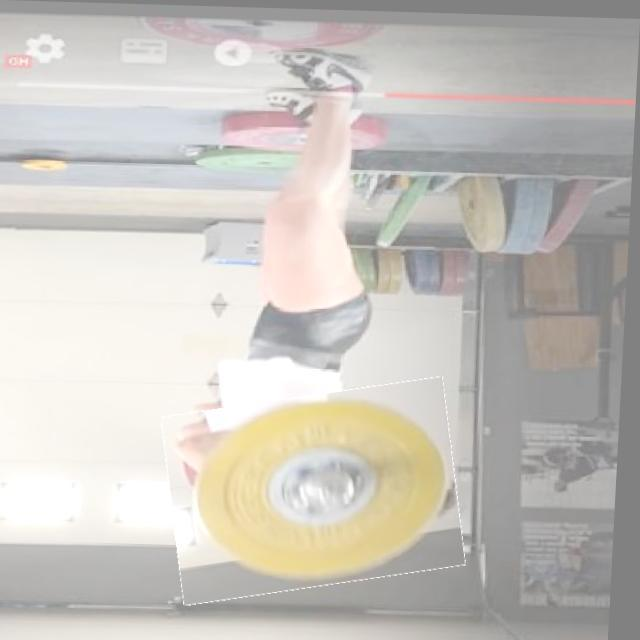barbell: (167, 380, 473, 600)
